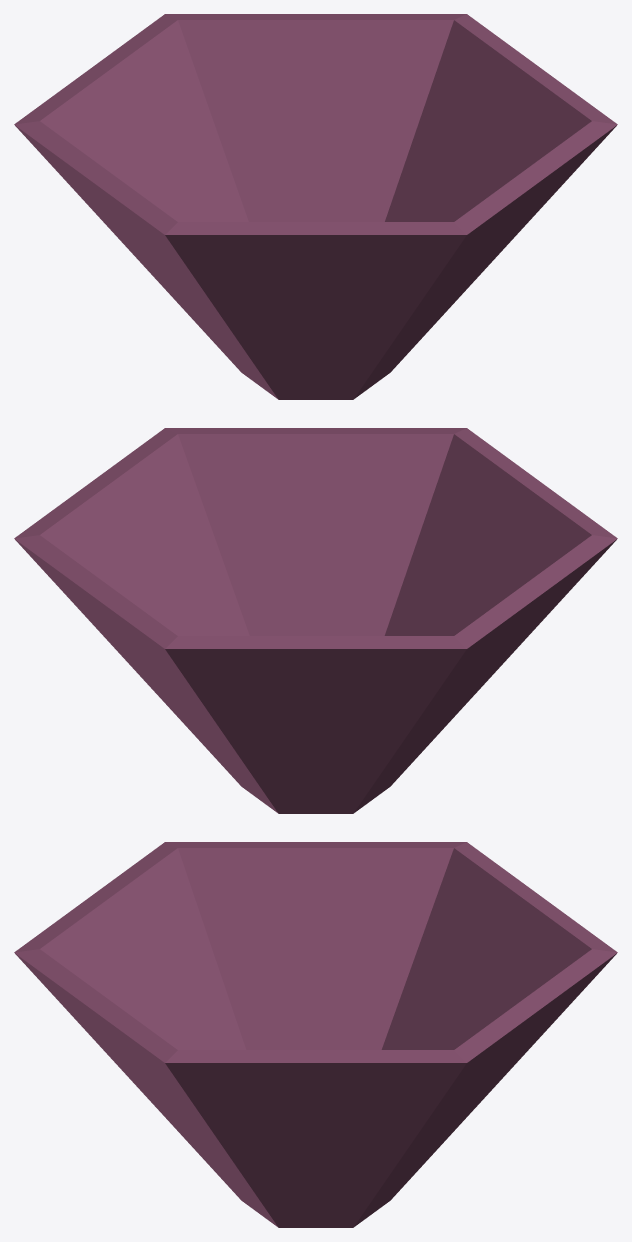
Rendered from Bowl_Material.fbx.
The picture shows the model from 3 angles, top to bottom: view 1: azimuth 30°, elevation 25°; view 2: azimuth 150°, elevation 25°; view 3: azimuth 270°, elevation 25°; orthographic projection.
Parts seen in each view (by area): view 1: Bowl; view 2: Bowl; view 3: Bowl.
Part boxes in pixels (box(x1,y1,x2,y2)): Bowl: box(14, 14, 617, 399); Bowl: box(14, 428, 617, 813); Bowl: box(14, 842, 617, 1227).
Size of the model in its own units: 0.3118 by 0.1655 by 0.36.
